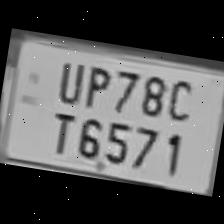1: (154, 122, 188, 174)
5: (99, 114, 135, 164)
6: (70, 111, 106, 160)
7: (125, 118, 162, 170), (104, 64, 140, 116)
8: (134, 68, 170, 118)
C: (162, 72, 196, 124)
P: (78, 59, 114, 111)
T: (42, 103, 79, 155)
U: (51, 55, 86, 105)
